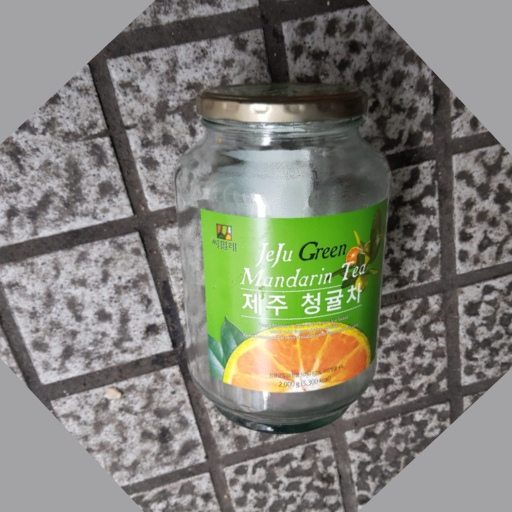Glass_5: (169, 74, 394, 434)
